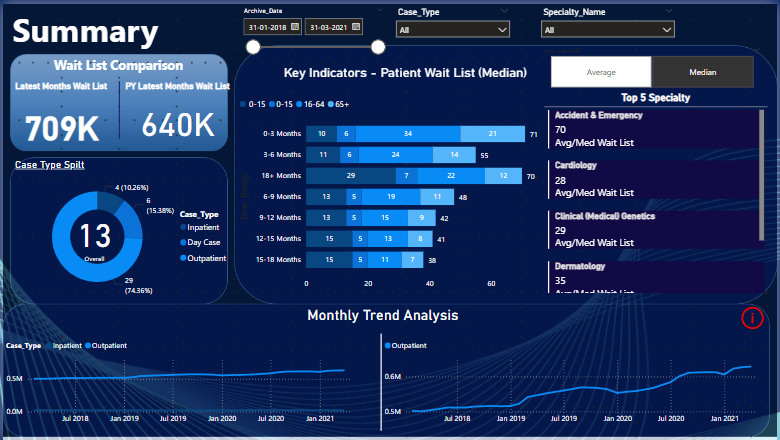

What the dashboard file says about the page in this screenshot:
{"tool":"powerbi","page":{"name":"Summary","canvas":[1280,720],"ordinal":0},"visuals":[{"type":"slicer","fields":{"Values":["Calcutation Method.calc method"]},"box":[880,64,384,80],"z":0},{"type":"card","title":"PY Latest Months Wait List","fields":{"Values":["All_data.PY Lastest Months Wait List"]},"box":[192,128,192,112],"z":1000},{"type":"donutChart","title":"Case Type Spilt ","fields":{"Category":["All_data.Case_Type"],"Y":["All_data.Avg/Med Wait List"]},"box":[16,256,368,240],"z":2000},{"type":"card","fields":{"Values":["All_data.No_data_left"]},"box":[16,528,544,176],"z":3000},{"type":"card","fields":{"Values":["All_data.No_data_Right"]},"box":[656,544,592,160],"z":4000},{"type":"barChart","fields":{"Category":["All_data.Time_Bands"],"Y":["All_data.Avg/Med Wait List"],"Series":["All_data.Age_Profile"]},"box":[384,144,512,336],"z":5000},{"type":"multiRowCard","title":"Top 5 Specialty","fields":{"Values":["All_data.Specialty_Name","All_data.Avg/Med Wait List"]},"box":[896,144,368,336],"z":6000},{"type":"lineChart","fields":{"Category":["All_data.Archive_Date"],"Y":["Sum(All_data.Total)"],"Series":["All_data.Case_Type"]},"box":[0,544,592,160],"z":7000},{"type":"lineChart","fields":{"Category":["All_data.Archive_Date"],"Y":["Sum(All_data.Total)"],"Series":["All_data.Case_Type"]},"box":[624,544,640,160],"z":8000},{"type":"slicer","fields":{"Values":["All_data.Archive_Date"]},"box":[384,0,256,96],"z":9000},{"type":"slicer","fields":{"Values":["All_data.Case_Type"]},"box":[640,0,208,64],"z":10000},{"type":"slicer","fields":{"Values":["All_data.Specialty_Name"]},"box":[880,0,240,80],"z":11000},{"type":"textbox","box":[0,0,272,96],"z":12000},{"type":"card","title":"Latest Months Wait List","fields":{"Values":["All_data.Lastest Months Wait List"]},"box":[0,128,192,128],"z":13000},{"type":"card","fields":{"Values":["All_data.Avg/Med Wait List"]},"box":[96,336,112,96],"z":14000},{"type":"textbox","box":[16,80,352,48],"z":15000},{"type":"shape","box":[112,128,160,96],"z":16000},{"type":"card","fields":{"Values":["All_data.Dynamic Title"]},"box":[432,80,464,64],"z":17000},{"type":"textbox","box":[496,496,272,48],"z":18000},{"type":"shape","box":[544,544,160,160],"z":19000},{"type":"actionButton","box":[1216,496,48,48],"z":20000}]}

Visuals, with their boxes in screenshot pixels (x1, y1, x2, y2), scaled from the page's 1280x720 canvas onto the 780x440 screenshot:
slicer - Calcutation Method.calc method: <bbox>536, 39, 770, 88</bbox>
"PY Latest Months Wait List" card: <bbox>117, 78, 234, 147</bbox>
"Case Type Spilt " donutChart: <bbox>10, 156, 234, 303</bbox>
card - All_data.No_data_left: <bbox>10, 323, 341, 430</bbox>
card - All_data.No_data_Right: <bbox>400, 332, 760, 430</bbox>
barChart - All_data.Time_Bands x All_data.Avg/Med Wait List: <bbox>234, 88, 546, 293</bbox>
"Top 5 Specialty" multiRowCard: <bbox>546, 88, 770, 293</bbox>
lineChart - All_data.Archive_Date x Sum(All_data.Total): <bbox>0, 332, 361, 430</bbox>
lineChart - All_data.Archive_Date x Sum(All_data.Total): <bbox>380, 332, 770, 430</bbox>
slicer - All_data.Archive_Date: <bbox>234, 0, 390, 59</bbox>
slicer - All_data.Case_Type: <bbox>390, 0, 517, 39</bbox>
slicer - All_data.Specialty_Name: <bbox>536, 0, 682, 49</bbox>
textbox: <bbox>0, 0, 166, 59</bbox>
"Latest Months Wait List" card: <bbox>0, 78, 117, 156</bbox>
card - All_data.Avg/Med Wait List: <bbox>58, 205, 127, 264</bbox>
textbox: <bbox>10, 49, 224, 78</bbox>
shape: <bbox>68, 78, 166, 137</bbox>
card - All_data.Dynamic Title: <bbox>263, 49, 546, 88</bbox>
textbox: <bbox>302, 303, 468, 332</bbox>
shape: <bbox>332, 332, 429, 430</bbox>
actionButton: <bbox>741, 303, 770, 332</bbox>
